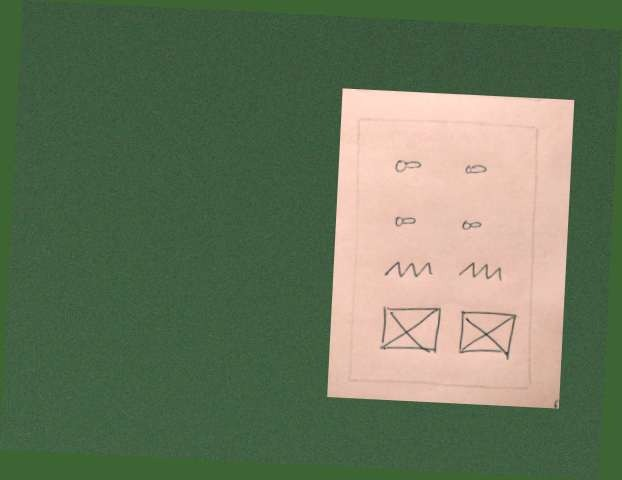image: (373, 302, 444, 357), (454, 305, 521, 363)
switch: (391, 152, 425, 178), (459, 159, 495, 180), (455, 214, 489, 235), (390, 209, 421, 232)
text: (452, 255, 510, 287), (380, 254, 438, 282)
